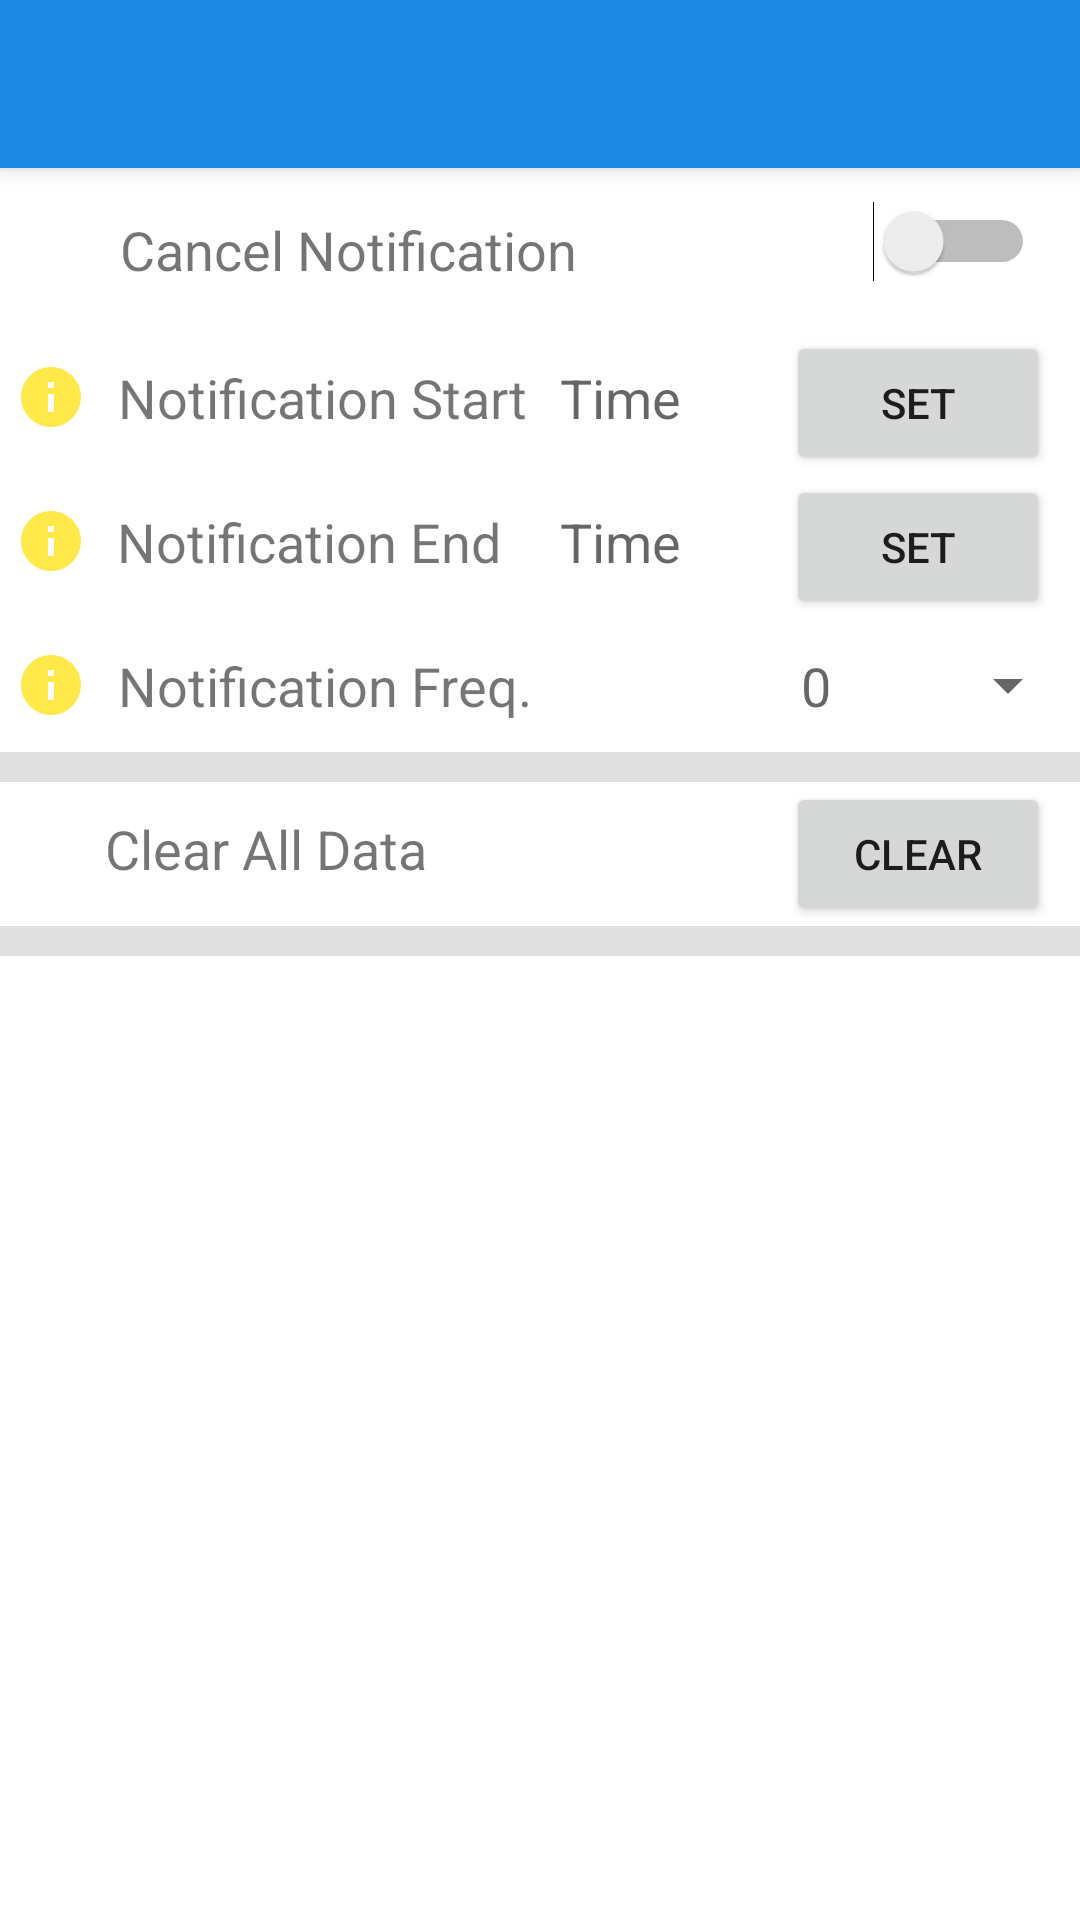

Where to tap for icons on this 1080w x 1920h app screen, as point (x, y):
info: point (51, 397), point (51, 541), point (51, 685)
